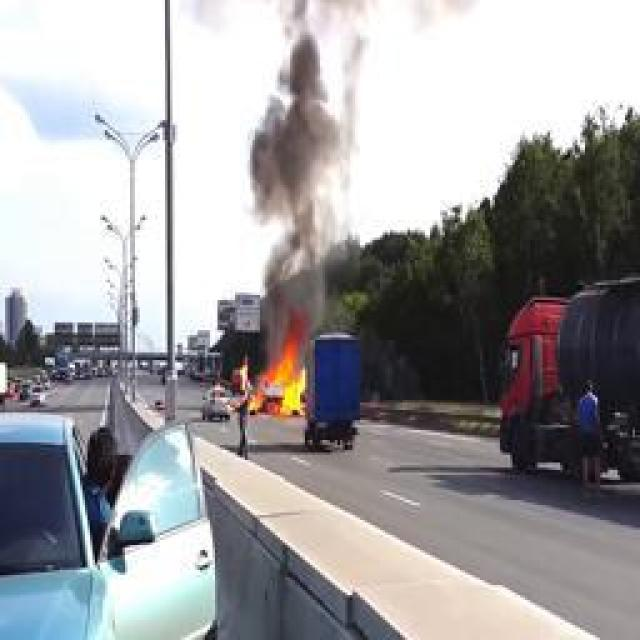Fire: (239, 306, 309, 416)
